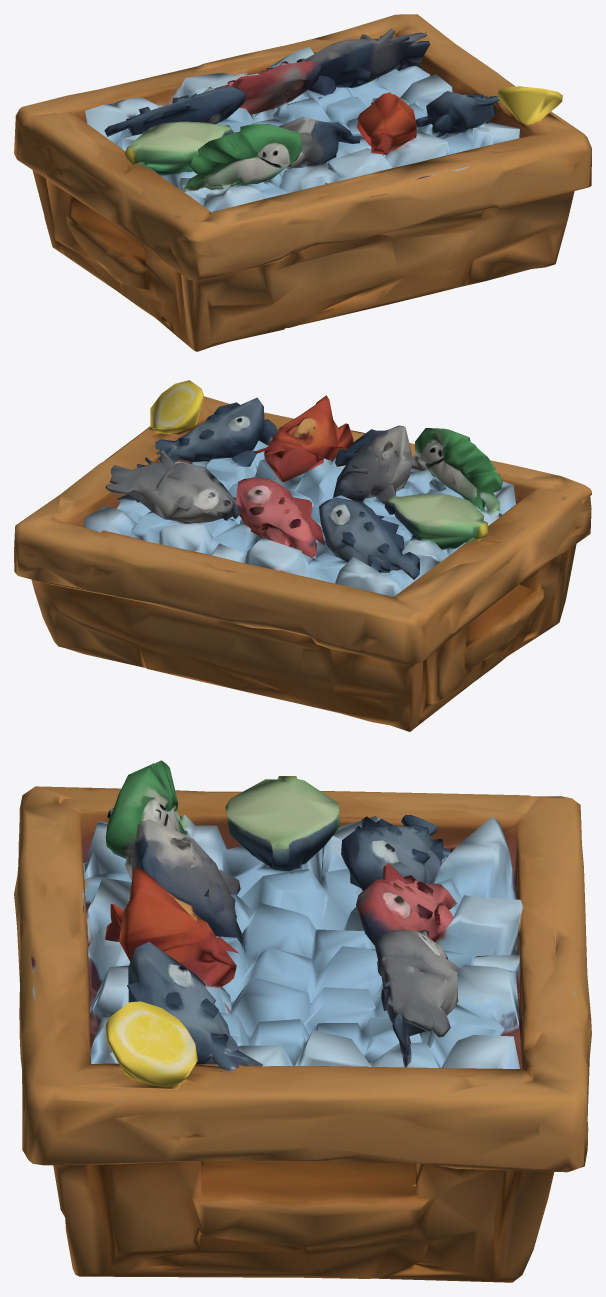
The model's file is prop-fishtray.glb.
3 renders of one model, top to bottom at view 1: azimuth 30°, elevation 25°; view 2: azimuth 150°, elevation 25°; view 3: azimuth 270°, elevation 25°, orthographic. The views are drawn at different scales.
Parts seen in each view (by area): view 1: tripo_node_97d90f6c-4060-4b5f-839a-1a8c1630f9e7; view 2: tripo_node_97d90f6c-4060-4b5f-839a-1a8c1630f9e7; view 3: tripo_node_97d90f6c-4060-4b5f-839a-1a8c1630f9e7.
Boxes of the visible parts, left/top/right/bottom form: tripo_node_97d90f6c-4060-4b5f-839a-1a8c1630f9e7: left=14, top=14, right=591, bottom=351; tripo_node_97d90f6c-4060-4b5f-839a-1a8c1630f9e7: left=14, top=380, right=591, bottom=731; tripo_node_97d90f6c-4060-4b5f-839a-1a8c1630f9e7: left=14, top=760, right=591, bottom=1282.
Size of the model in its own units: 0.9999 by 0.4654 by 0.7971.
Materials: 1 (1 with a texture image).
